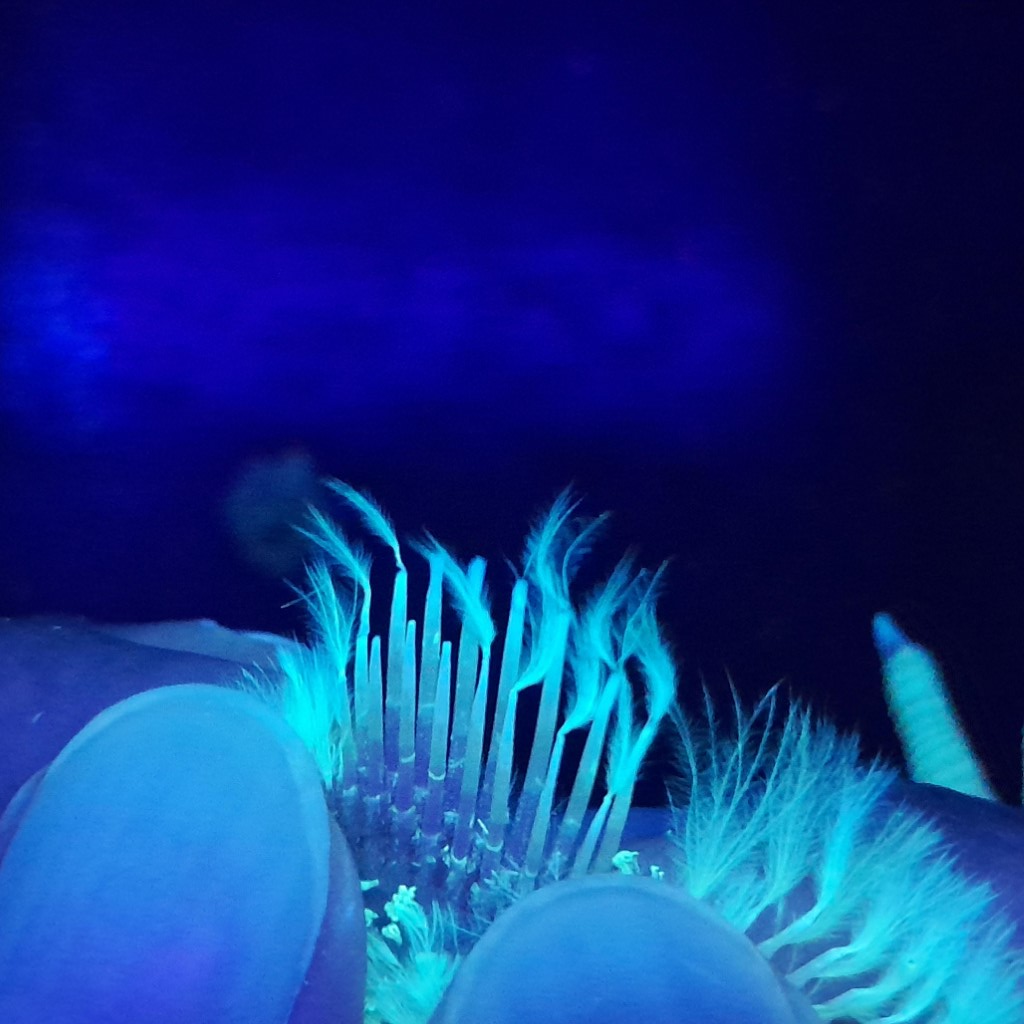female: (311, 526, 664, 946)
